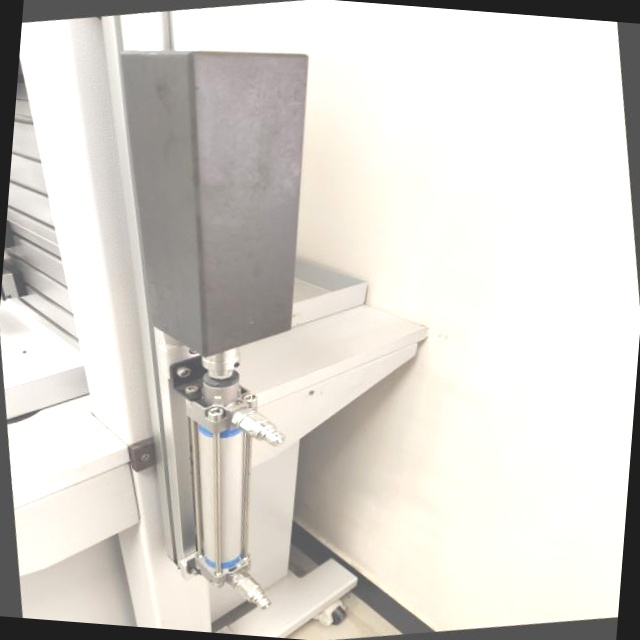load: (13, 0, 422, 640)
